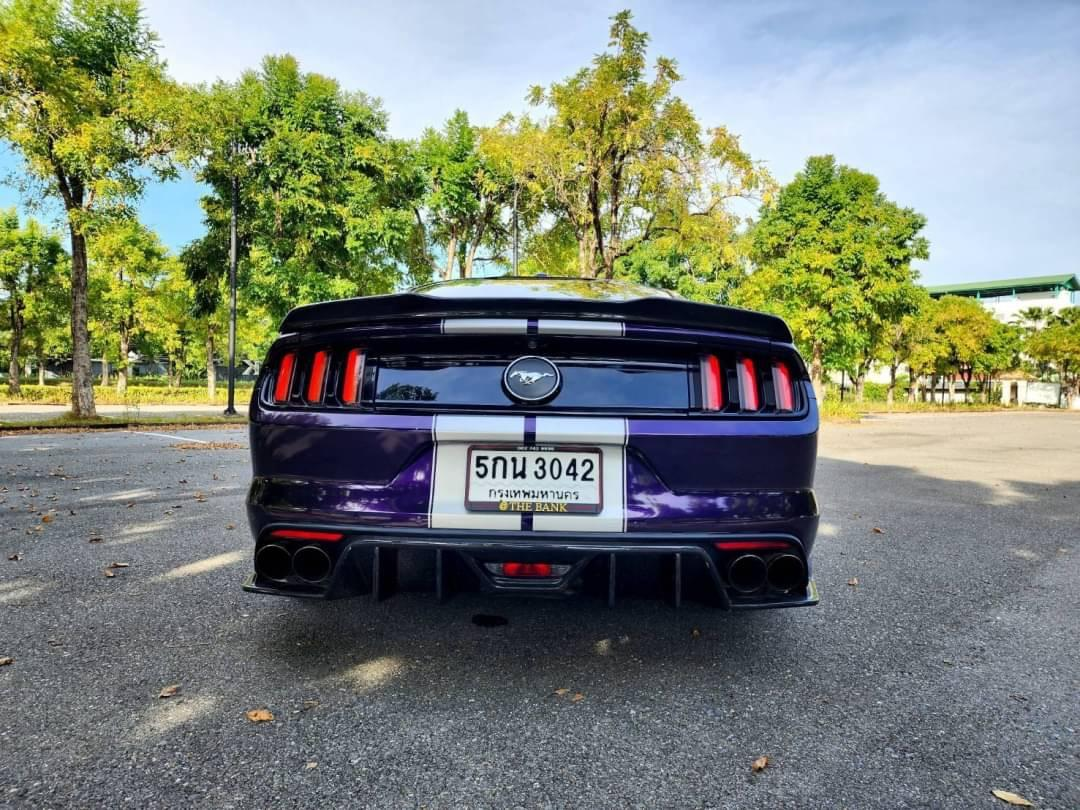license-plate: (460, 437, 604, 518)
